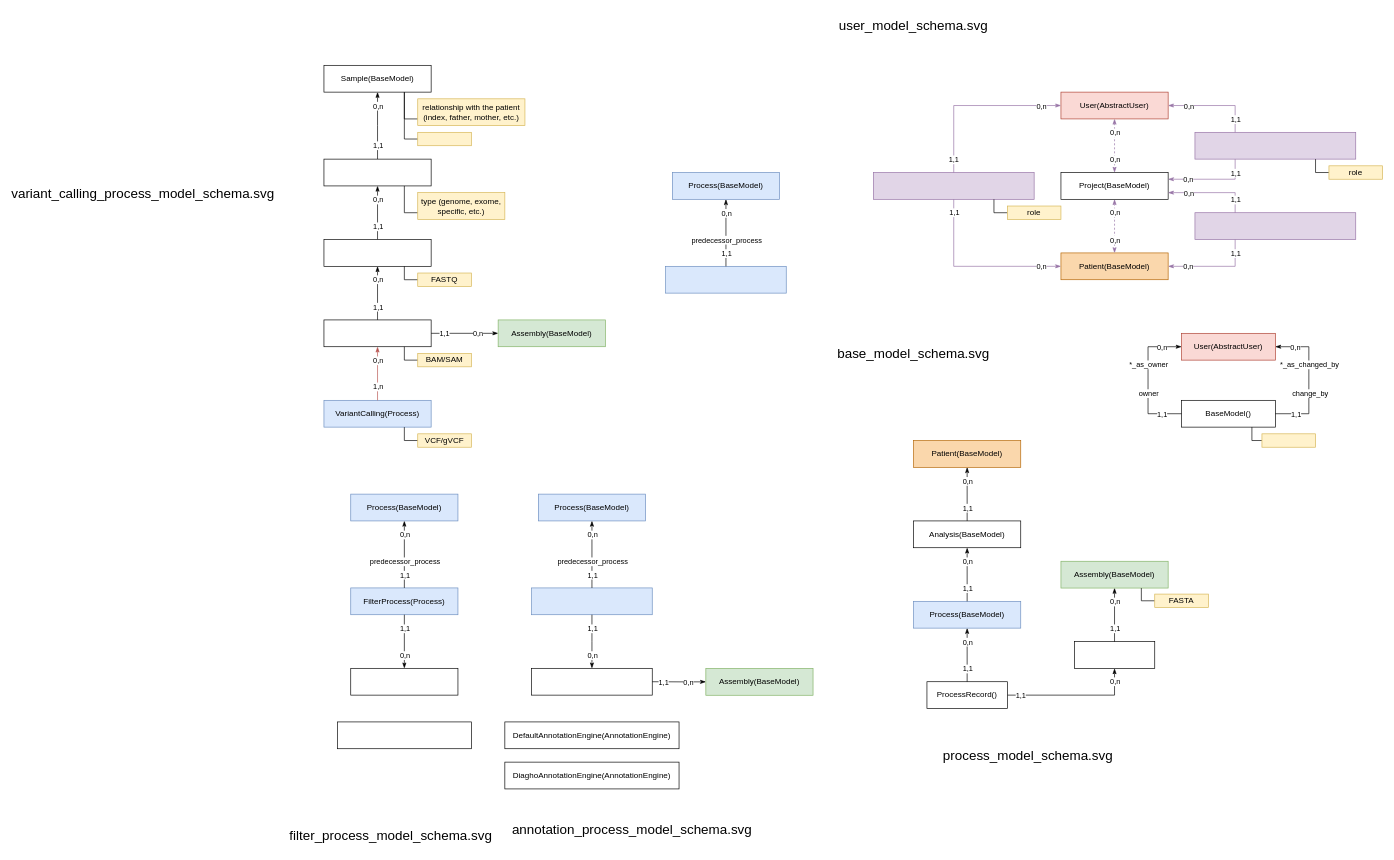
The diagram is 1394 pixels wide and 860 high, and some of its shapes have lost their labels. Each missing label, with the centre of its shape:
"Alignment(BaseModel)" belongs at [377,333].
"AnnotationEngine(BaseModel)" belongs at [591,681].
"AnnotationProcess(Process)" belongs at [591,601].
"BaseCalling(BaseModel)" belongs at [377,252].
"DefaultFilterEngine(FilterEngine)" belongs at [404,735].
"FilterEngine(BaseModel)" belongs at [404,681].
"Interpretation(Process)" belongs at [725,279].
"metadata" belongs at [1288,440].
"PatientUserRelationship(BaseModel)" belongs at [953,185].
"ProjectPatientRelationship(BaseModel)" belongs at [1275,226].
"ProjectUserRelationship(BaseModel)" belongs at [1275,145].
"Sequencing(BaseModel)" belongs at [377,172].
"tissue" belongs at [444,139].
"Variant()" belongs at [1114,654].
